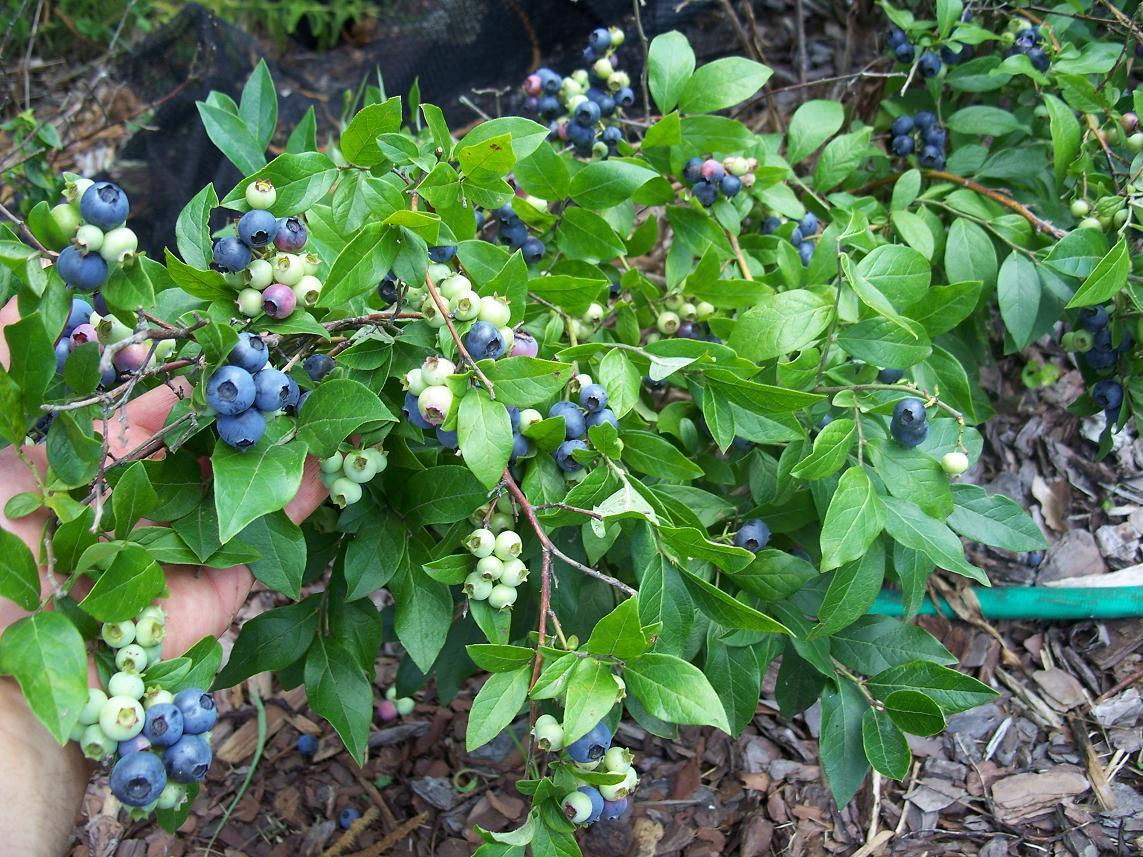Blueberry leaf: (188, 584, 423, 787), (476, 118, 658, 370), (554, 592, 786, 780), (804, 636, 1015, 811), (305, 167, 463, 333), (838, 243, 988, 387), (907, 449, 1055, 575), (859, 476, 1001, 596), (648, 12, 781, 140), (440, 646, 558, 780), (2, 601, 96, 755), (705, 287, 865, 372), (812, 459, 892, 595), (984, 234, 1057, 354), (95, 545, 175, 626)
